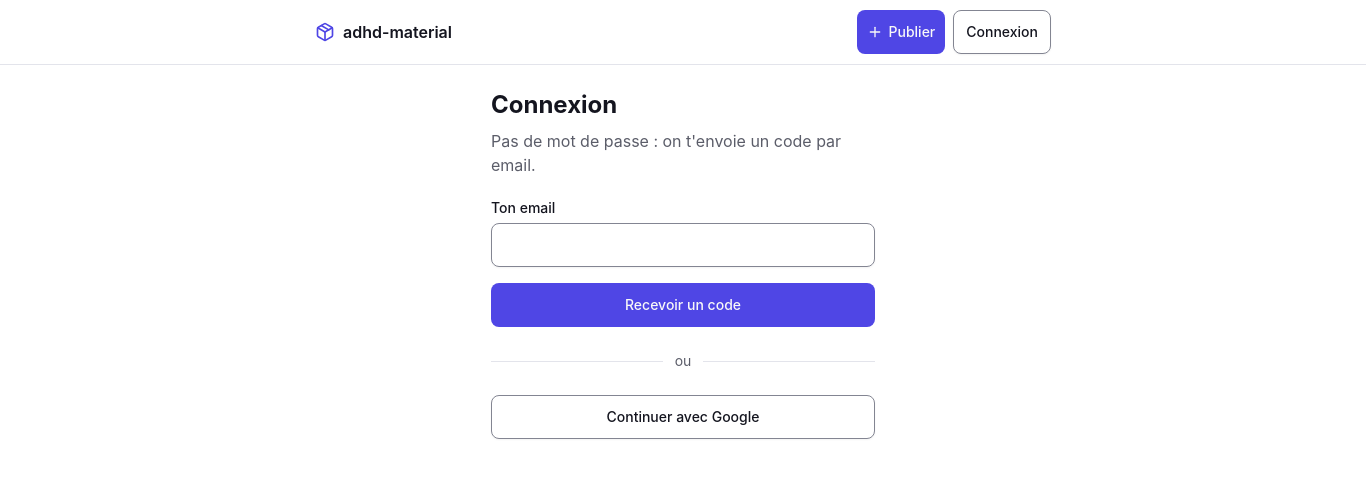
Test case: connexion par email puis code › garde l'email saisi si l'envoi échoue
The image size is (1366, 484).
Type "moi@example.com" into the field labelled "Ton email". click: (683, 245)
box: [491,223,875,267]
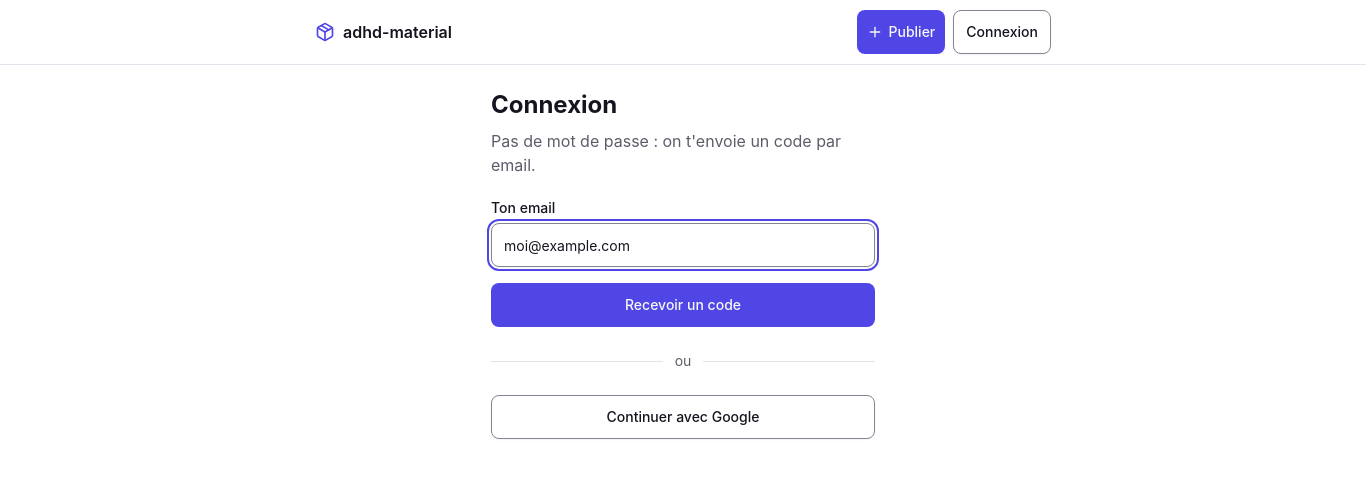
Click the button "Recevoir un code". click: (683, 305)
box: [491,283,875,327]
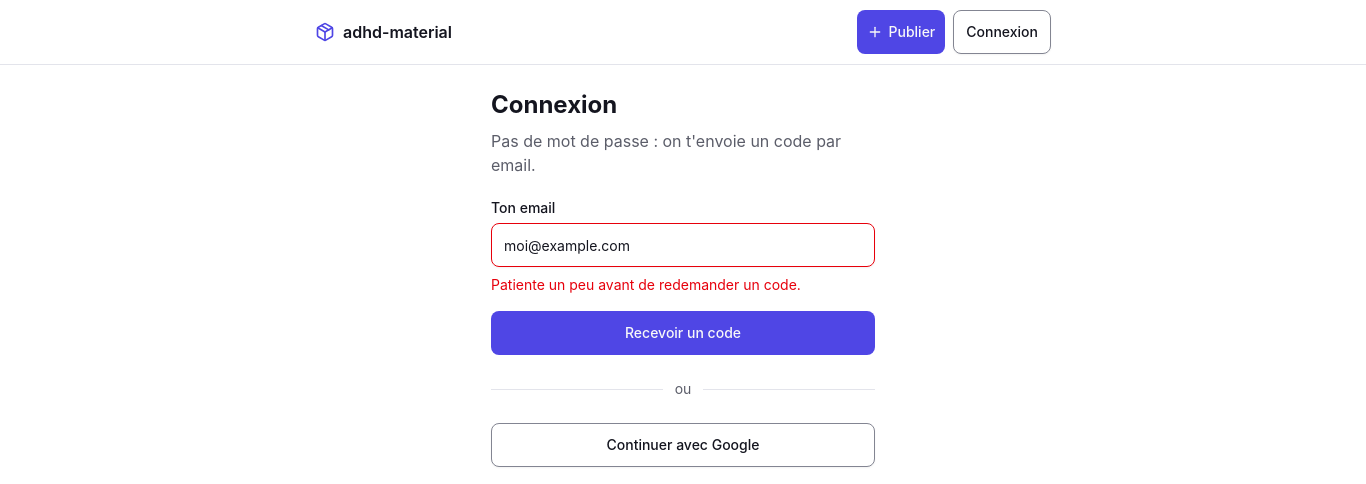
Result: the message shows "Patiente un peu" at [491,276,801,293]
